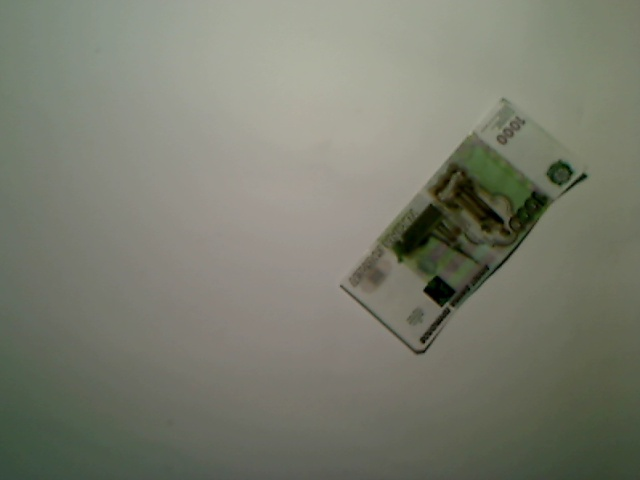banknotes: (336, 93, 592, 358)
